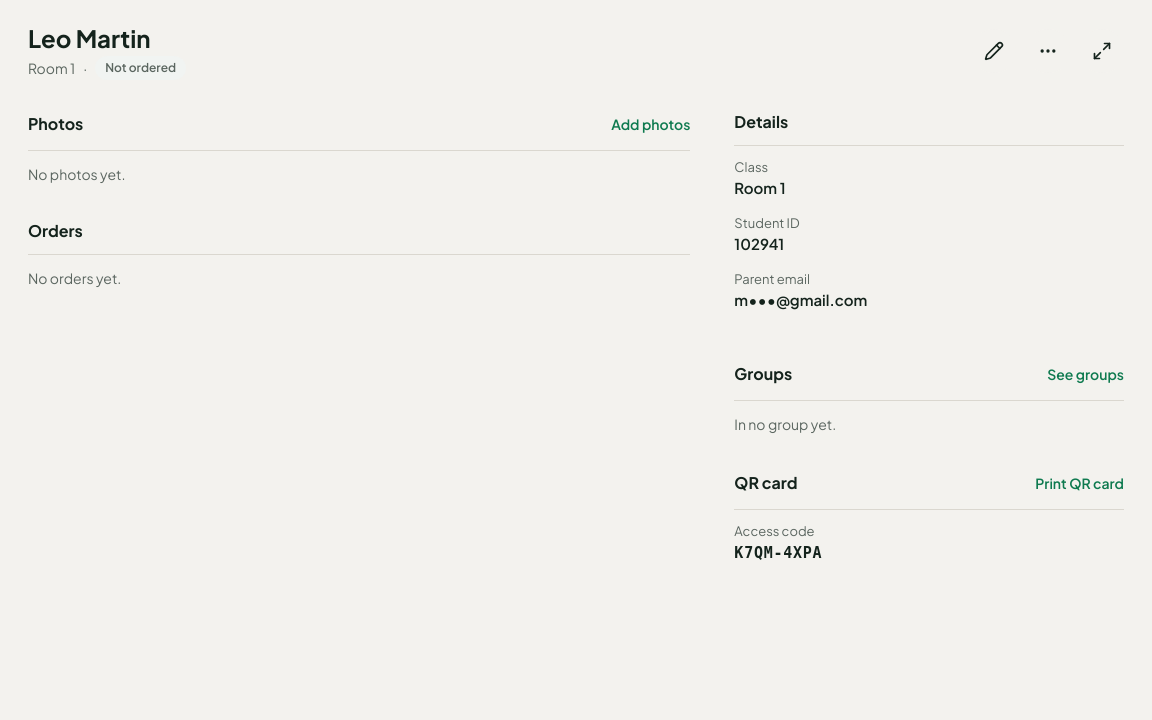
Test: a person's record (D153) › a card never printed offers Print QR card; after printing it shows Printed and Print again
Expected: the element showing "QR card Print QR card Access code K7QM-4XPA" is shown, 734,461 -> 1124,579
Expected: the text "Printed" is not shown
Click the button "Print QR card": [1080, 483] box 1035,461 -> 1124,505
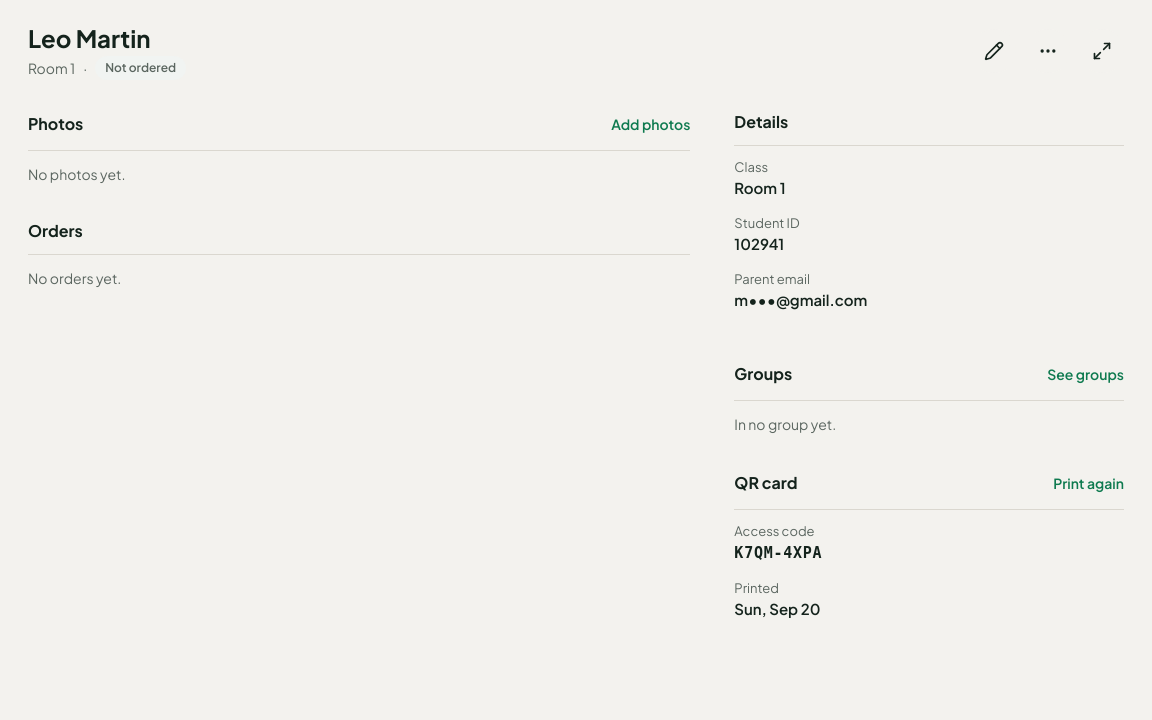
Expected: the text "m•••@gmail.com" is shown, 734,290 -> 867,309
Result: the element that starts with "QR card" shows "Printed" at 734,580 -> 779,596
Result: the element that starts with "QR card" shows "Print again" at 1053,461 -> 1124,505
